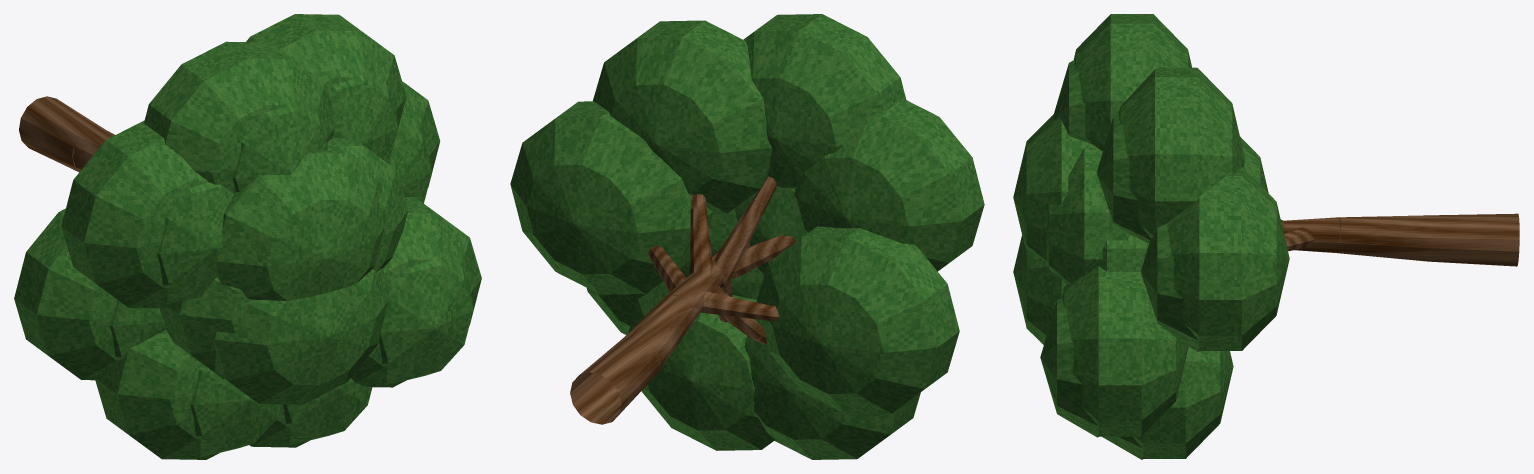
File: SM_ShShireMatureOak.obj
The picture shows the model from 3 angles, left to right: view 1: azimuth 30°, elevation 25°; view 2: azimuth 150°, elevation 25°; view 3: azimuth 270°, elevation 25°; orthographic projection. The views are drawn at different scales.
Parts seen in each view (by area): view 1: SM_ShShireMatureOak; view 2: SM_ShShireMatureOak; view 3: SM_ShShireMatureOak.
Part boxes in pixels (left/top/right/bottom): SM_ShShireMatureOak: left=14, top=14, right=481, bottom=459; SM_ShShireMatureOak: left=510, top=14, right=984, bottom=459; SM_ShShireMatureOak: left=1013, top=14, right=1519, bottom=459.
Size of the model in its own units: 418 by 404 by 469.
2 materials, 2 textured.
